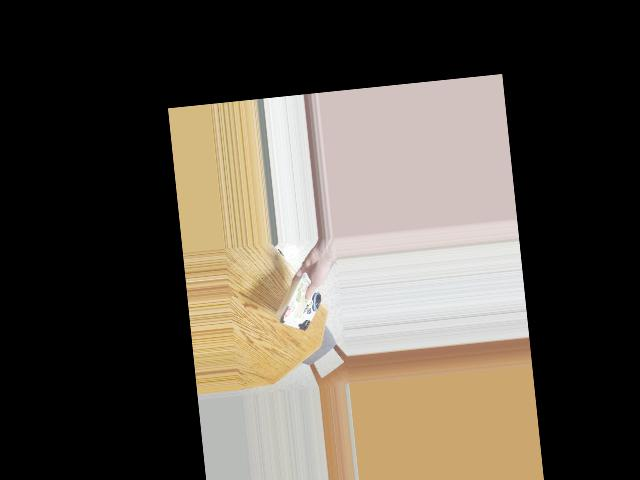cheese: (264, 275, 326, 337)
